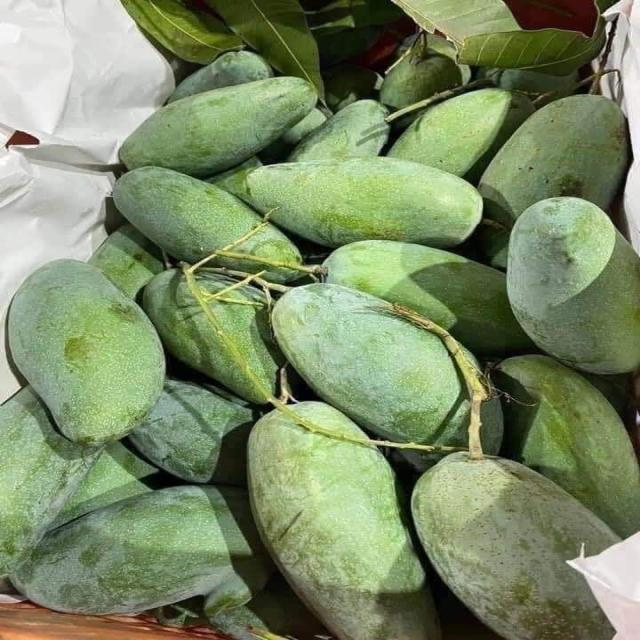mango: (248, 410, 439, 639), (412, 453, 619, 639), (11, 486, 271, 613), (272, 284, 469, 447), (8, 260, 164, 445), (492, 356, 639, 537), (479, 95, 629, 267), (324, 240, 532, 357), (507, 198, 639, 373), (245, 158, 482, 247), (120, 77, 316, 175), (144, 270, 284, 403), (0, 387, 99, 575), (113, 167, 261, 263), (388, 88, 534, 181), (130, 380, 254, 485), (50, 442, 166, 528), (209, 574, 327, 639), (288, 100, 390, 161), (89, 224, 164, 298), (168, 51, 272, 103), (380, 54, 462, 111), (479, 68, 579, 105), (260, 108, 327, 163), (324, 64, 382, 111), (317, 26, 381, 67), (207, 156, 263, 197), (584, 373, 632, 420), (422, 34, 456, 61)
